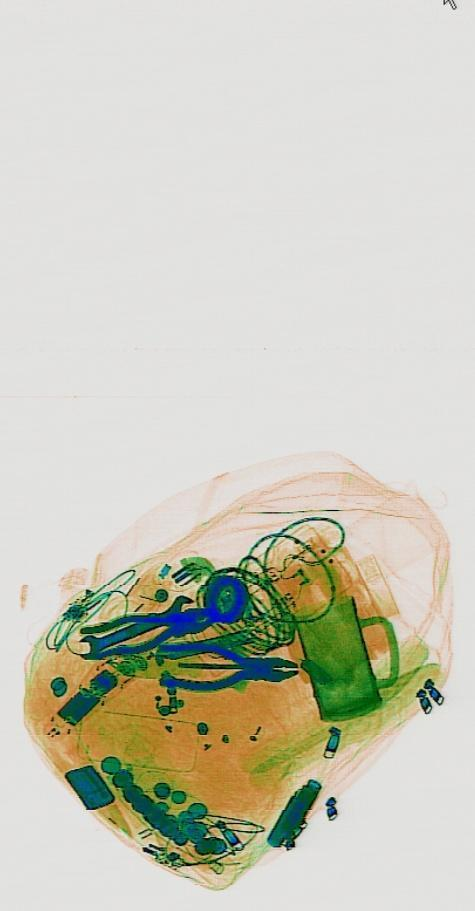Pliers: (77, 592, 214, 666), (156, 640, 298, 693)
Wrench: (76, 588, 193, 660)
